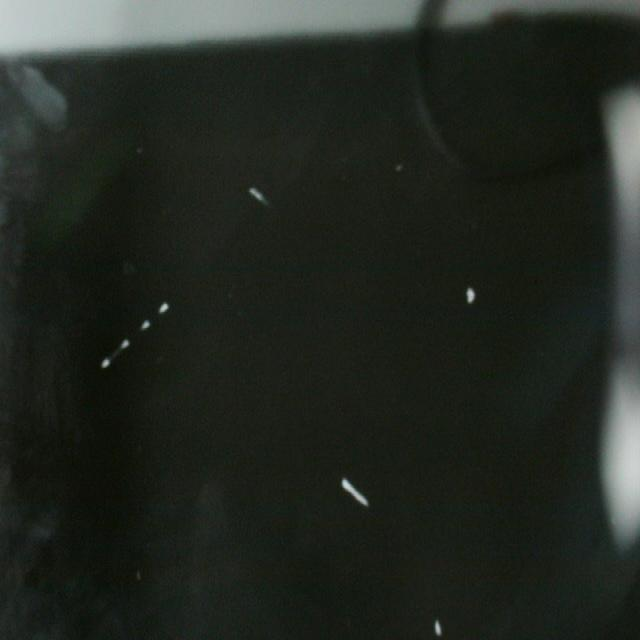scratch: (96, 295, 172, 383), (335, 468, 377, 520), (245, 175, 271, 217)
very small scratch: (461, 276, 481, 316), (430, 608, 451, 640)
